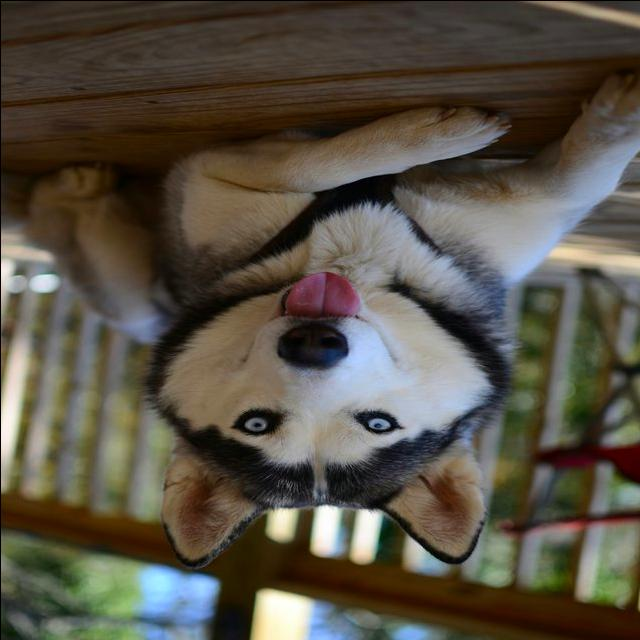husky: (4, 69, 640, 571)
